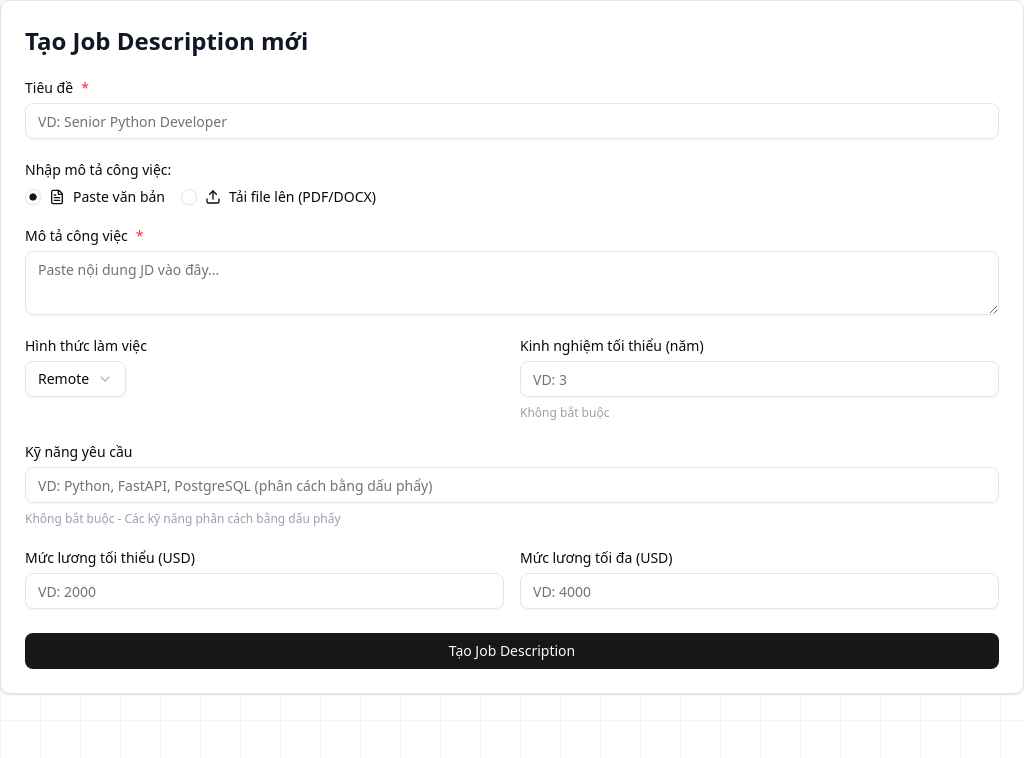
Scenario: JDUploadForm › shows validation errors for empty required fields
The width and height of the screenshot is (1024, 758).
Click the button "Tạo Job Description" at (512, 651), box [25,633,999,669]
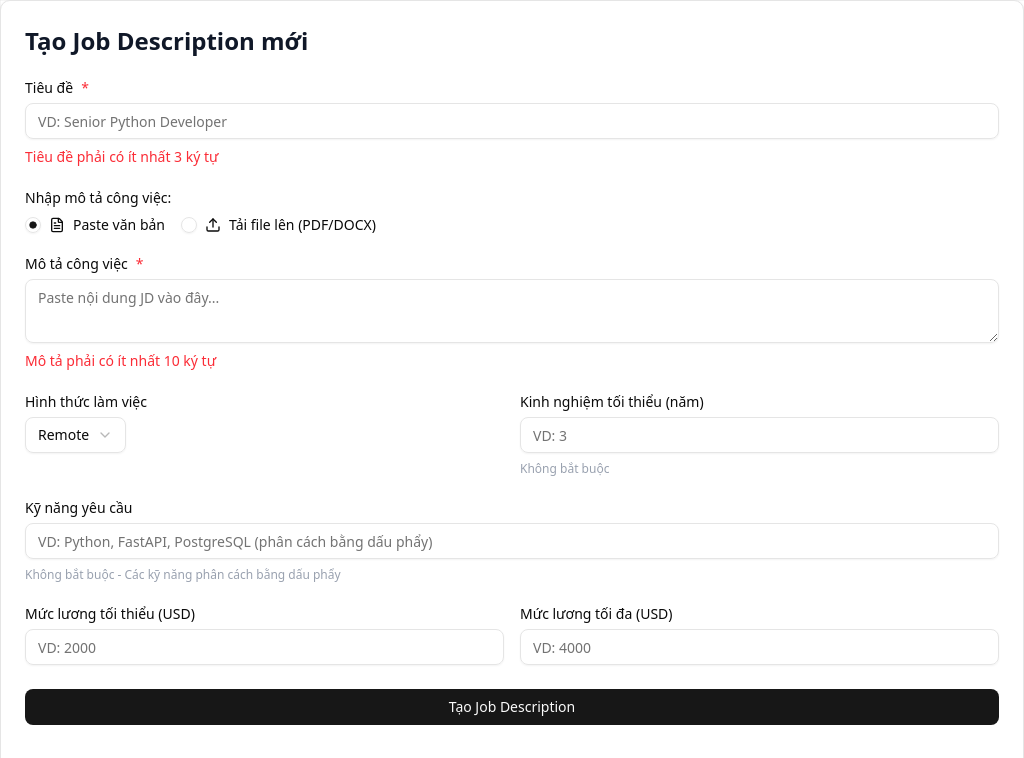
Result: the text "Tiêu đề phải có ít nhất 3 ký tự" is shown at [25,147,218,166]
